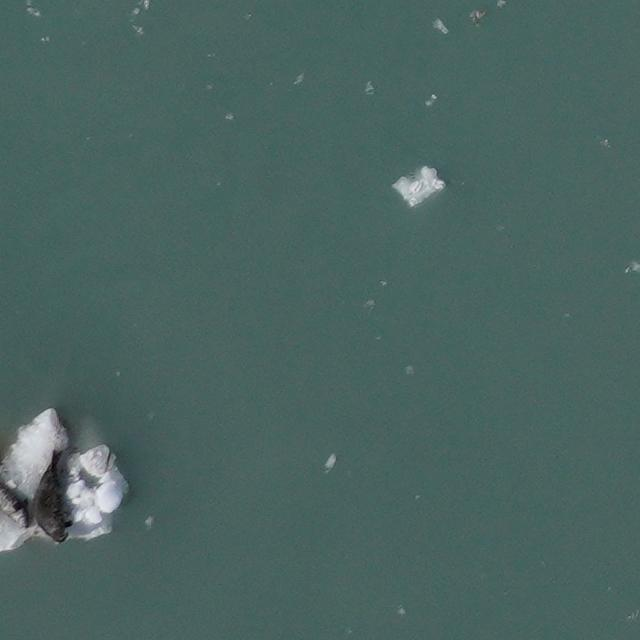seal: (28, 446, 80, 546), (0, 472, 34, 533)
